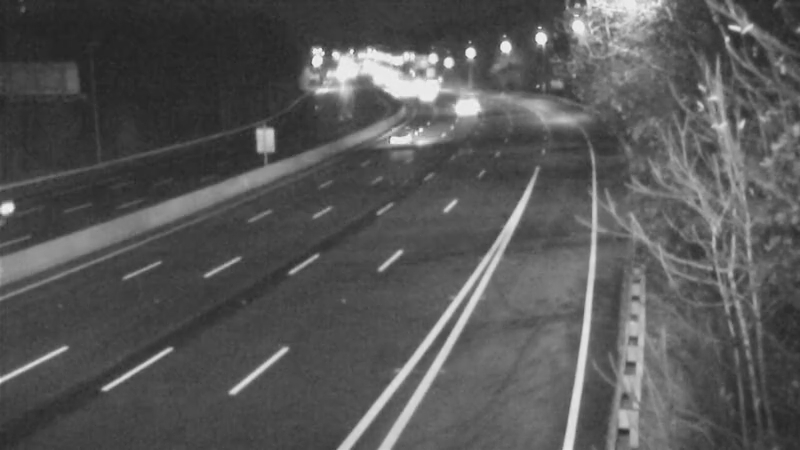vehicle: (434, 83, 484, 133), (375, 108, 425, 158)
